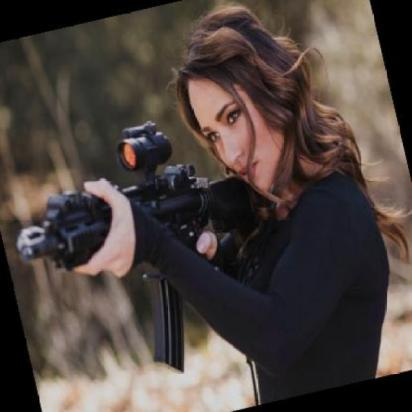Gun: (0, 103, 290, 412)
